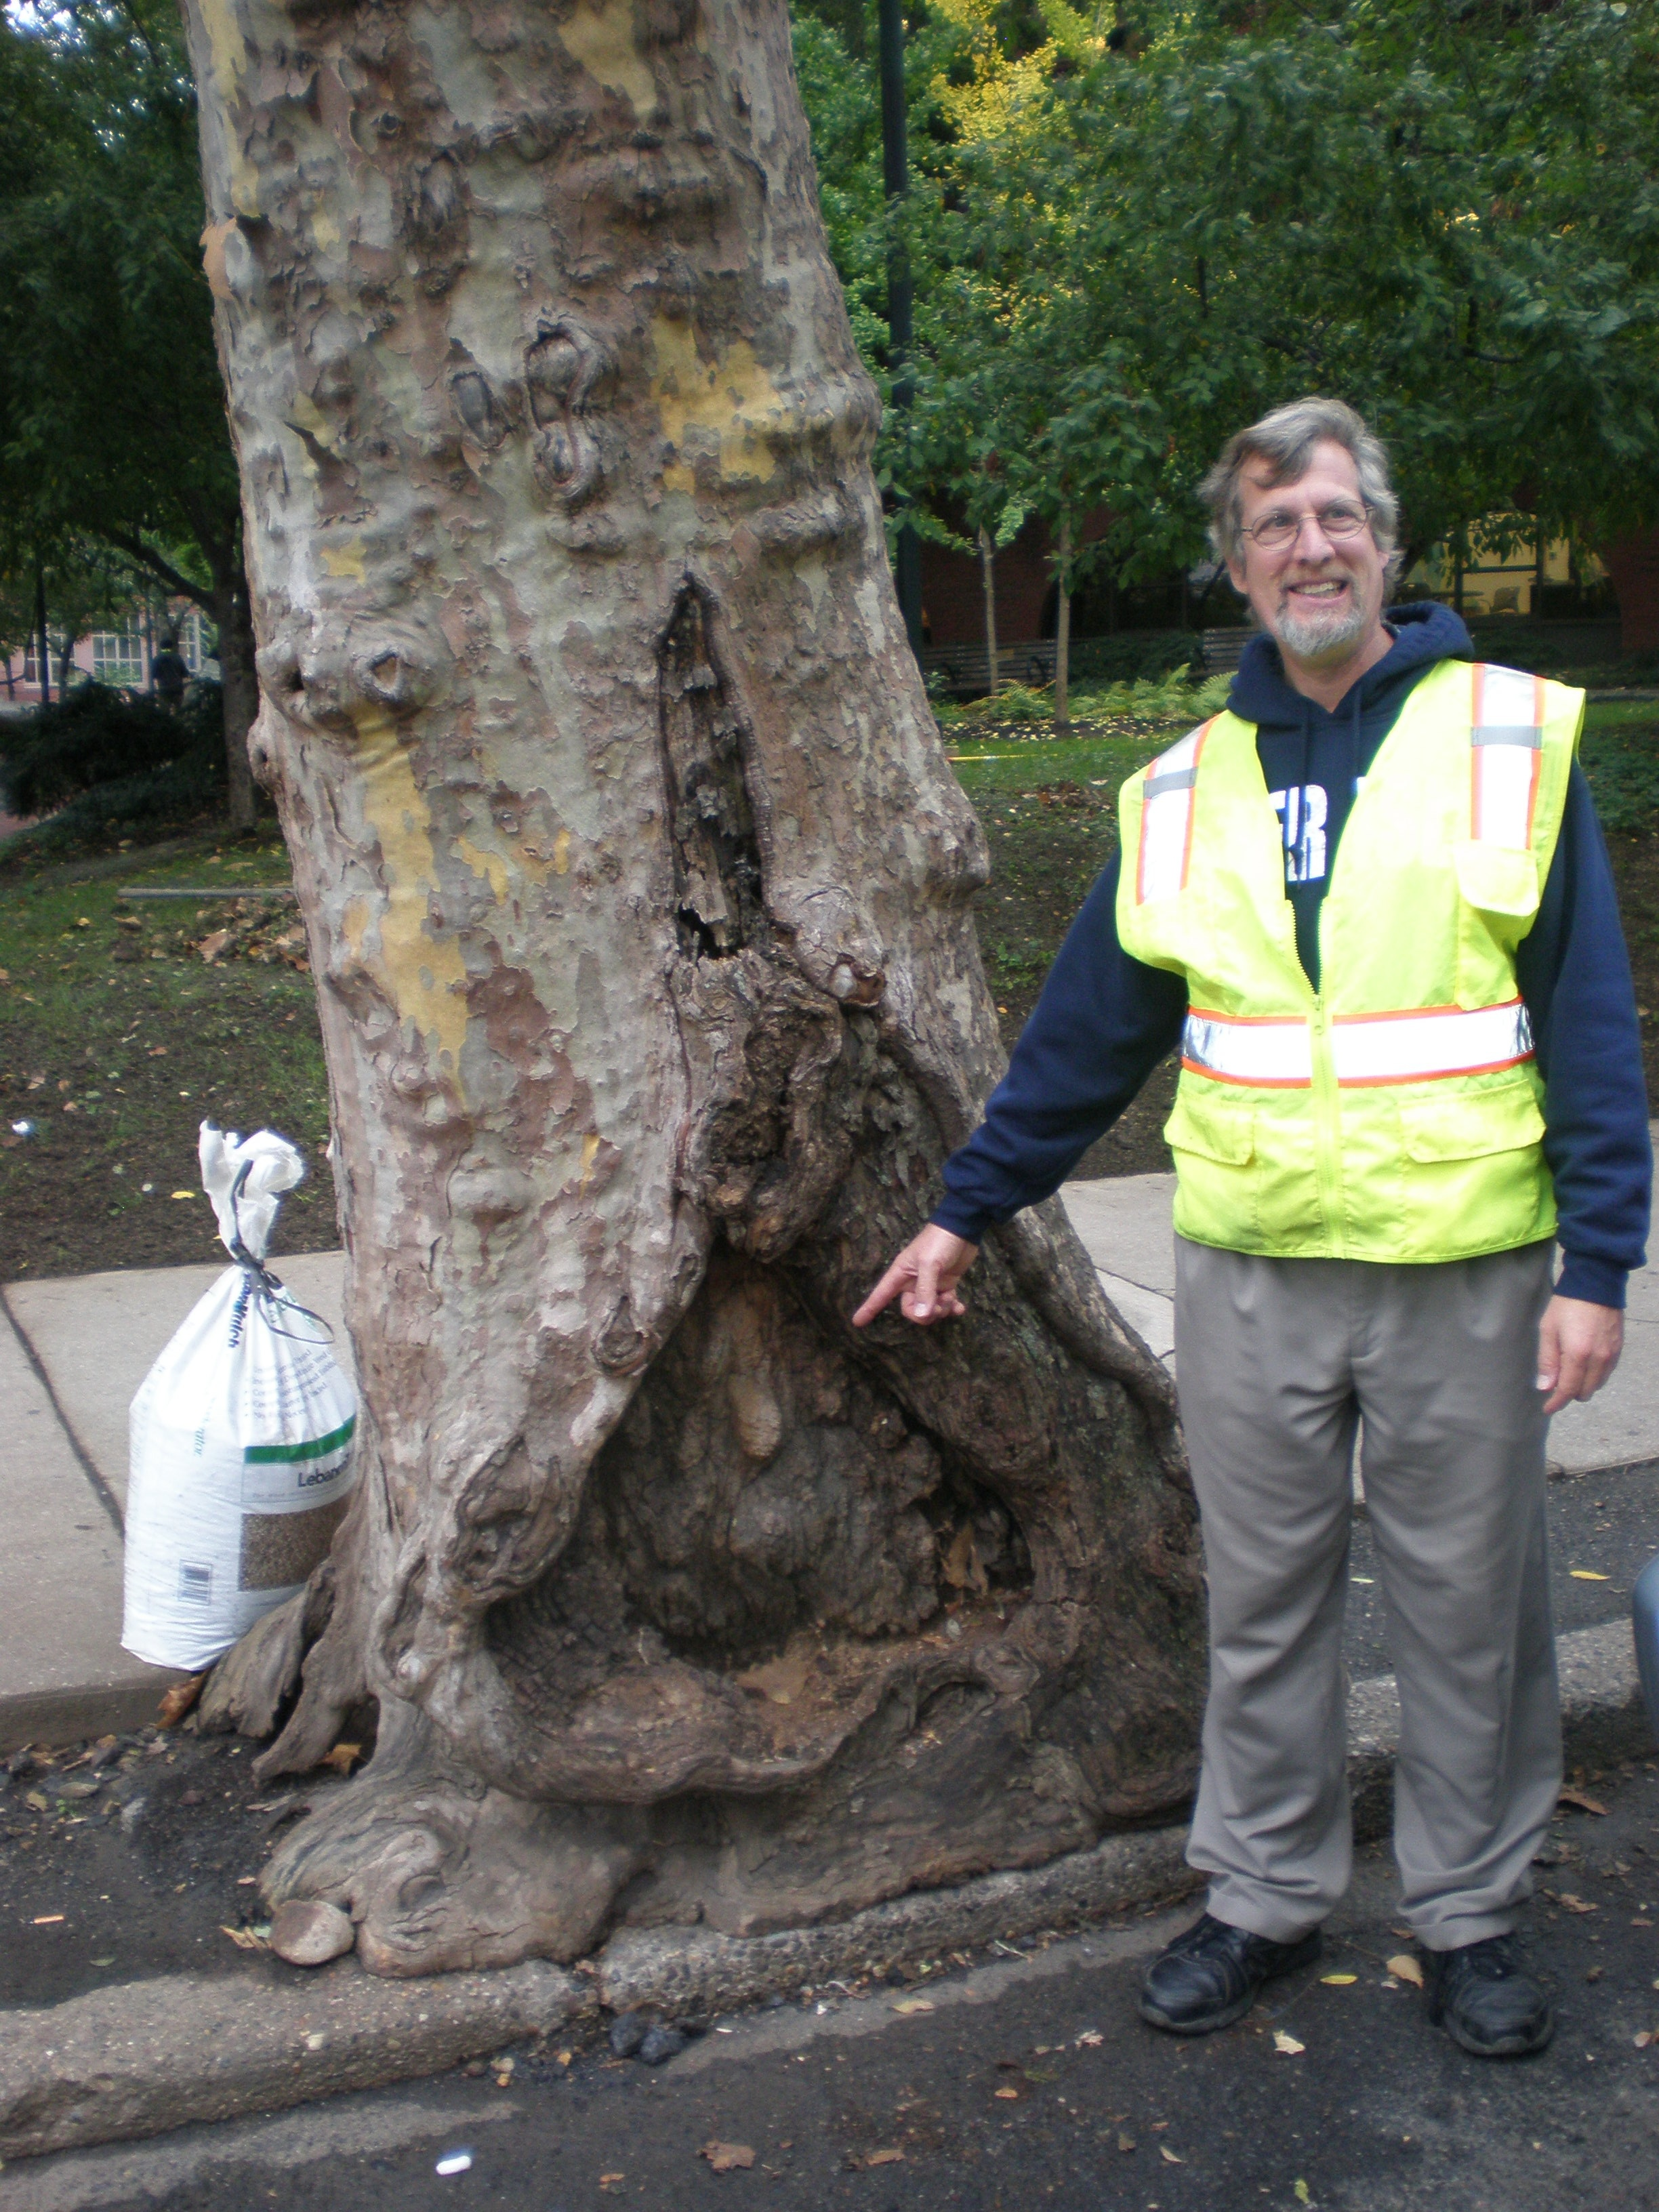person with partial safety: (1085, 395, 1624, 2064)
safety vest: (1124, 680, 1559, 1271)
